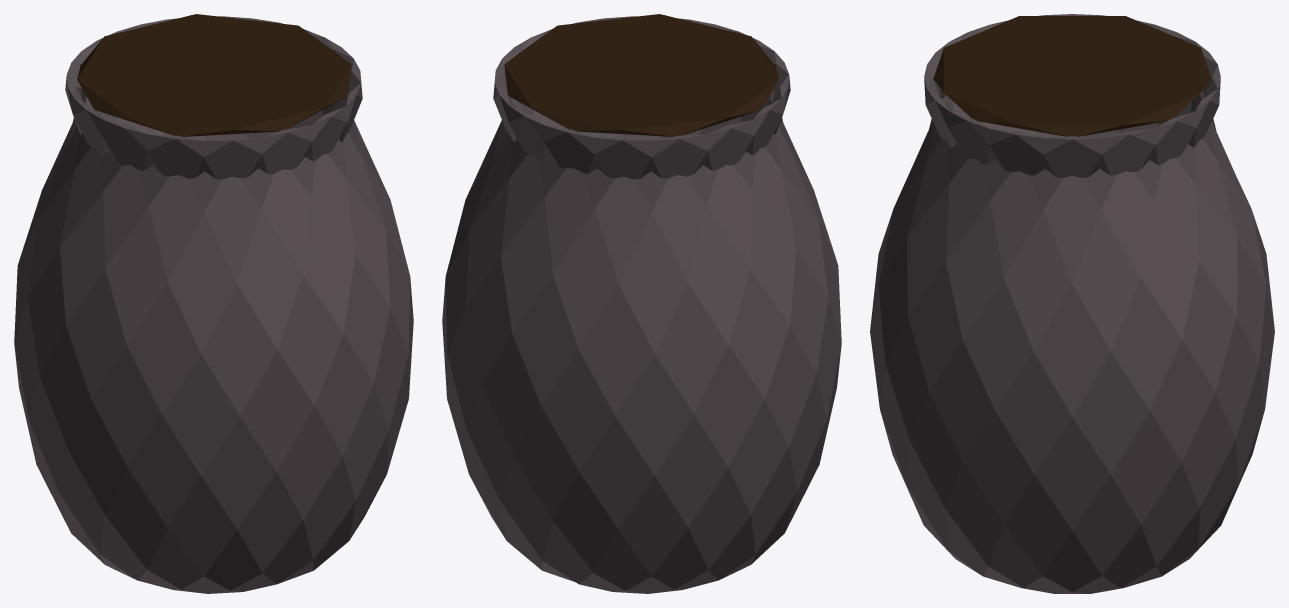
The model's file is vazo3.fbx.
The picture shows the model from 3 angles, left to right: view 1: azimuth 30°, elevation 25°; view 2: azimuth 150°, elevation 25°; view 3: azimuth 270°, elevation 25°; orthographic projection.
Parts seen in each view (by area): view 1: Cylinder.002; view 2: Cylinder.002; view 3: Cylinder.002.
Boxes of the visible parts, x1,y1,x2,y2 form: Cylinder.002: [14, 14, 413, 593]; Cylinder.002: [442, 14, 841, 593]; Cylinder.002: [870, 14, 1274, 593].
Bounding box in the file's own units: 291 × 399 × 291.
